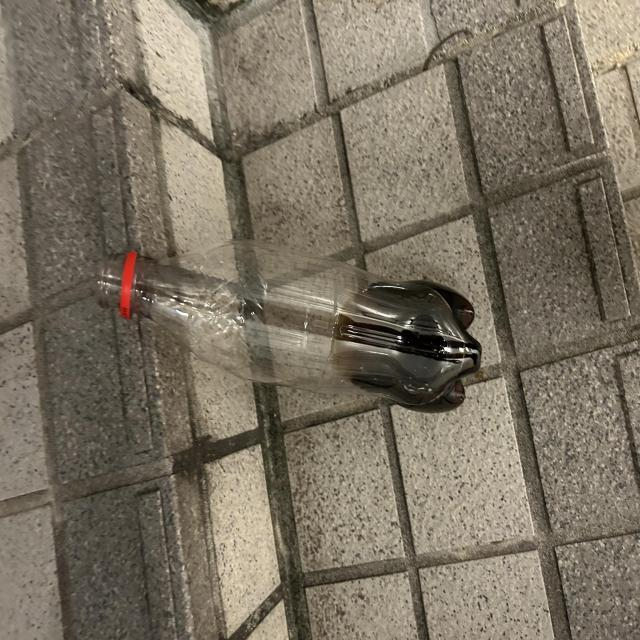low: (98, 240, 481, 412)
